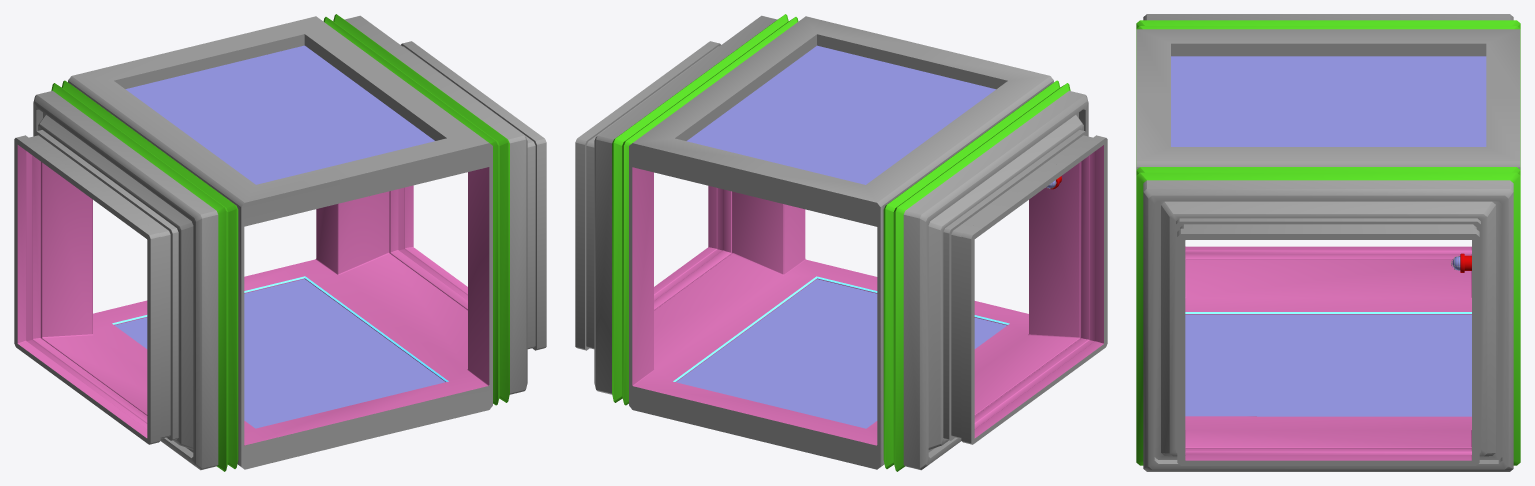
Rendered from spaceDock section.fbx.
The picture shows the model from 3 angles, left to right: view 1: azimuth 30°, elevation 25°; view 2: azimuth 150°, elevation 25°; view 3: azimuth 270°, elevation 25°; orthographic projection. The views are drawn at different scales.
Parts seen in each view (by area): view 1: spaceDock section; view 2: spaceDock section; view 3: spaceDock section.
Boxes of the visible parts, bbox=[...] form: spaceDock section: bbox=[14, 14, 546, 471]; spaceDock section: bbox=[575, 14, 1107, 471]; spaceDock section: bbox=[1136, 14, 1520, 471].
Bounding box in the file's own units: 659 × 424 × 500.
